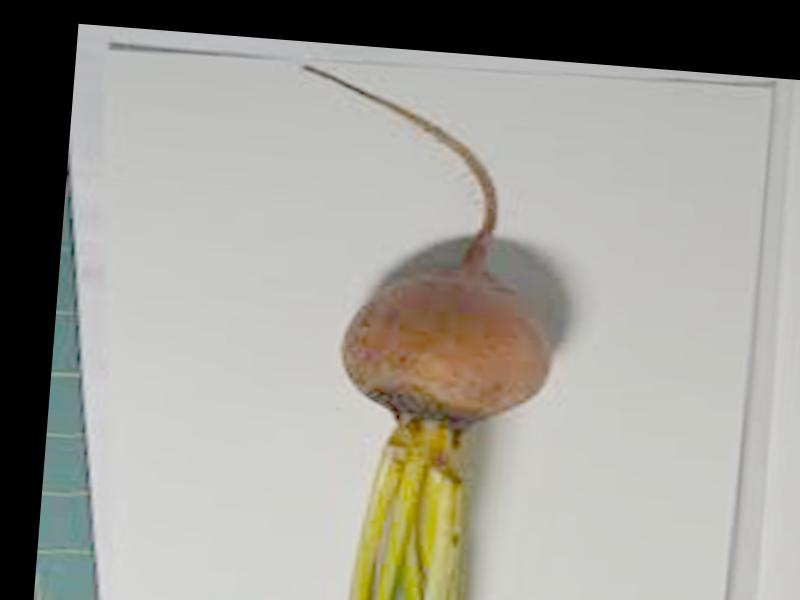Beet: (260, 65, 572, 600)
